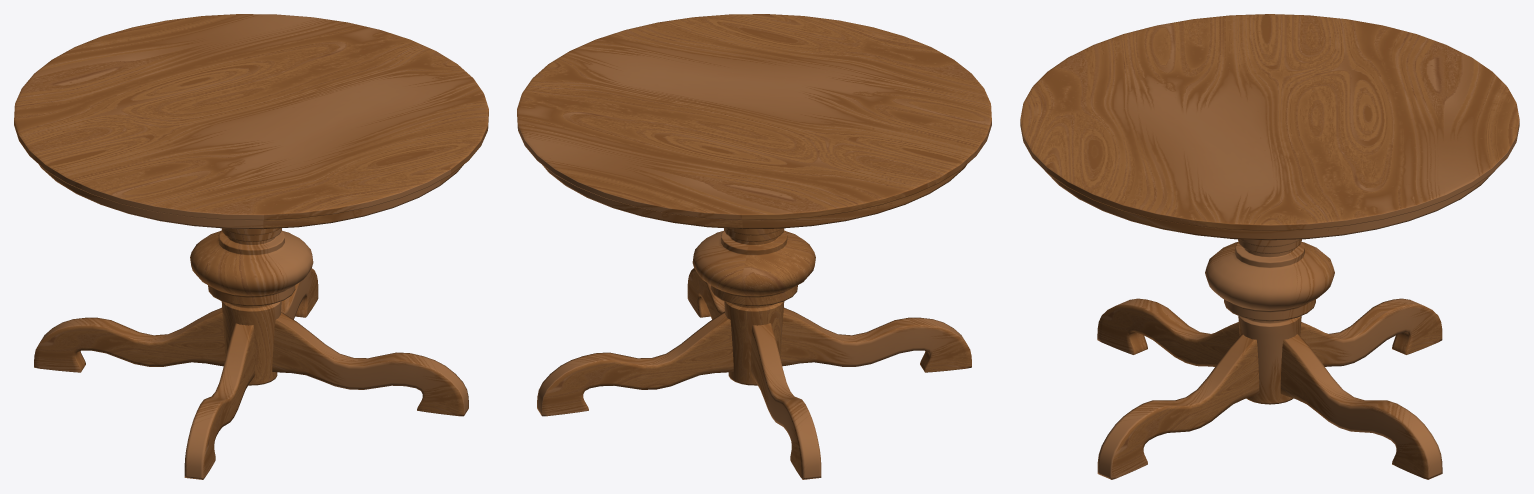
The model's file is round_table.glb.
3 renders of one model, left to right at view 1: azimuth 30°, elevation 25°; view 2: azimuth 150°, elevation 25°; view 3: azimuth 270°, elevation 25°, orthographic. The views are drawn at different scales.
Parts seen in each view (by area): view 1: table_top_top, table_base, table_foot_3, table_foot_1, table_foot_4, table_top_bottom, table_foot_2; view 2: table_top_top, table_base, table_foot_2, table_foot_4, table_foot_1, table_top_bottom, table_foot_3; view 3: table_top_top, table_base, table_foot_3, table_foot_2, table_foot_4, table_foot_1, table_top_bottom.
Boxes of the visible parts, x1,y1,x2,y2 form: table_top_top: [14, 14, 488, 220]; table_base: [190, 228, 313, 385]; table_foot_3: [272, 312, 468, 416]; table_foot_1: [34, 307, 225, 372]; table_foot_4: [184, 323, 254, 479]; table_top_bottom: [39, 165, 463, 229]; table_foot_2: [281, 268, 318, 319]; table_top_top: [517, 14, 991, 220]; table_base: [692, 228, 815, 385]; table_foot_2: [537, 312, 733, 416]; table_foot_4: [780, 307, 971, 372]; table_foot_1: [751, 323, 821, 479]; table_top_bottom: [542, 165, 966, 229]; table_foot_3: [687, 268, 724, 319]; table_top_top: [1020, 14, 1519, 230]; table_base: [1205, 239, 1334, 404]; table_foot_3: [1097, 334, 1259, 479]; table_foot_2: [1280, 334, 1442, 479]; table_foot_4: [1097, 298, 1239, 366]; table_foot_1: [1300, 298, 1442, 366]; table_top_bottom: [1045, 171, 1494, 240].
Size of the model in its own units: 2.01 by 1.28 by 2.01.
1 material, 1 textured.
